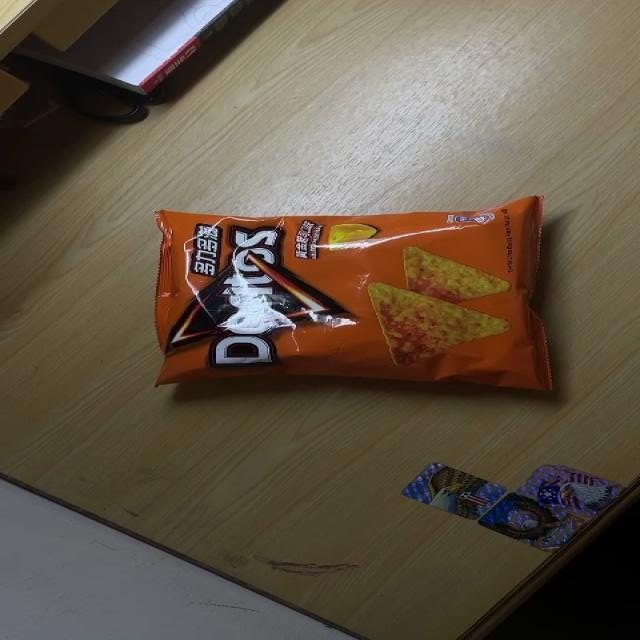Doritos: (150, 196, 552, 393)
